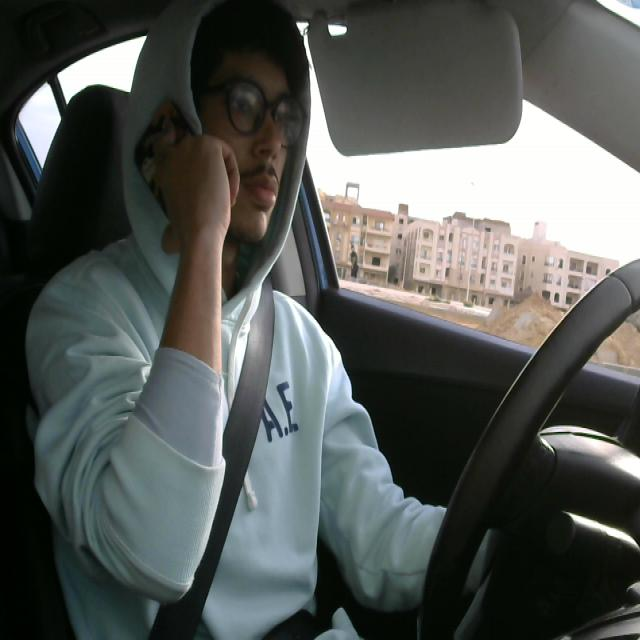mobile use: (129, 90, 217, 239)
